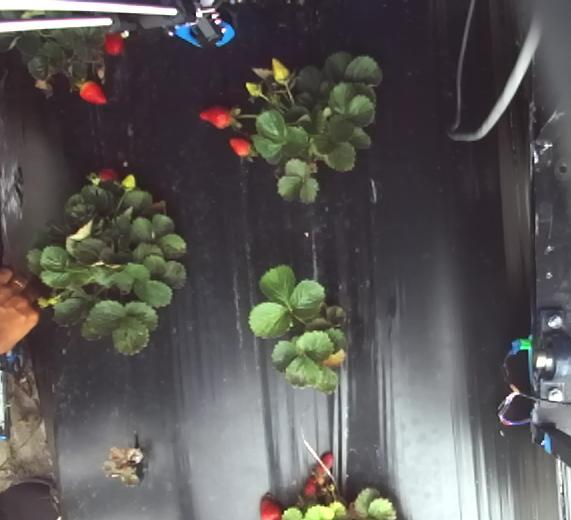mature: (199, 102, 235, 129), (77, 81, 109, 105), (311, 448, 335, 480), (258, 491, 283, 519), (227, 135, 257, 157), (103, 33, 125, 57), (99, 164, 121, 186), (302, 475, 319, 500)
